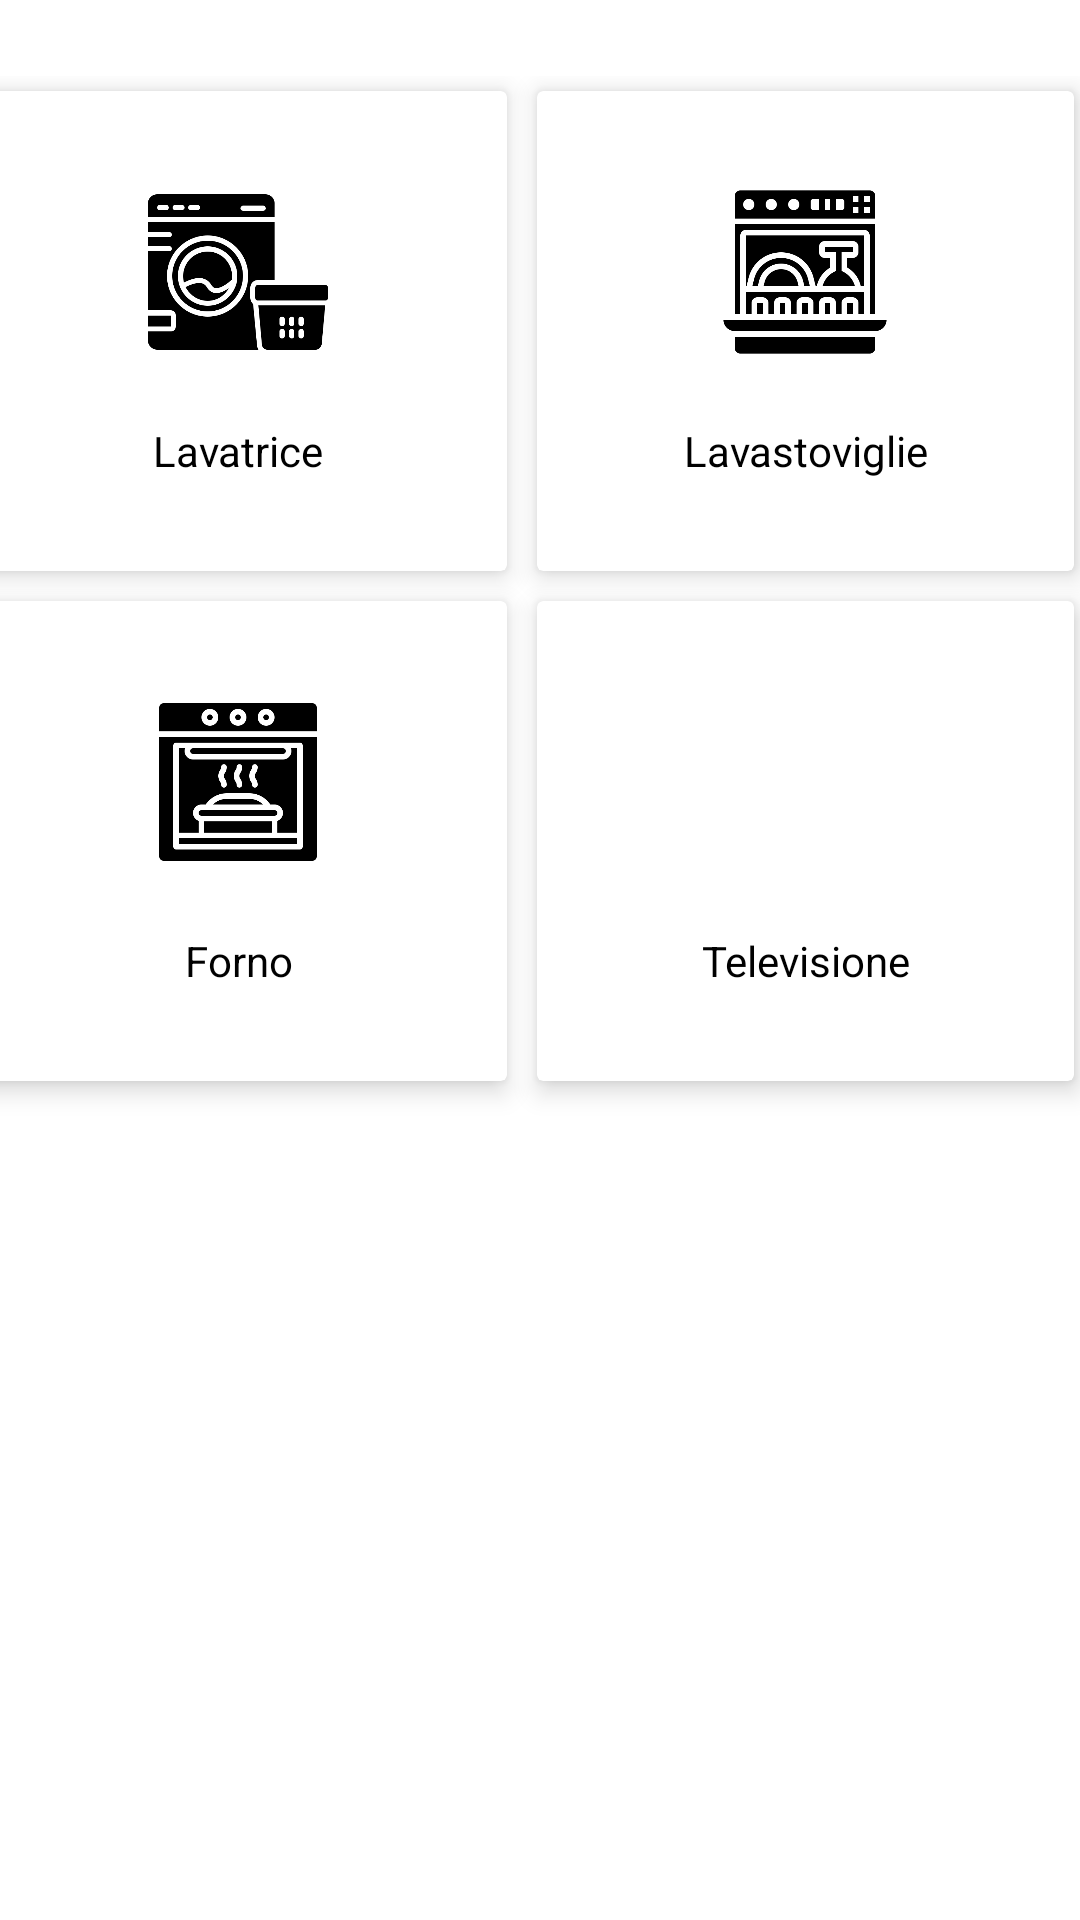

Point at icon controls on the screen. Image size 1080w x 1920h, points as point (x, y).
dishwasher: point (805, 272)
oven: point (238, 782)
washing machine: point (238, 272)
